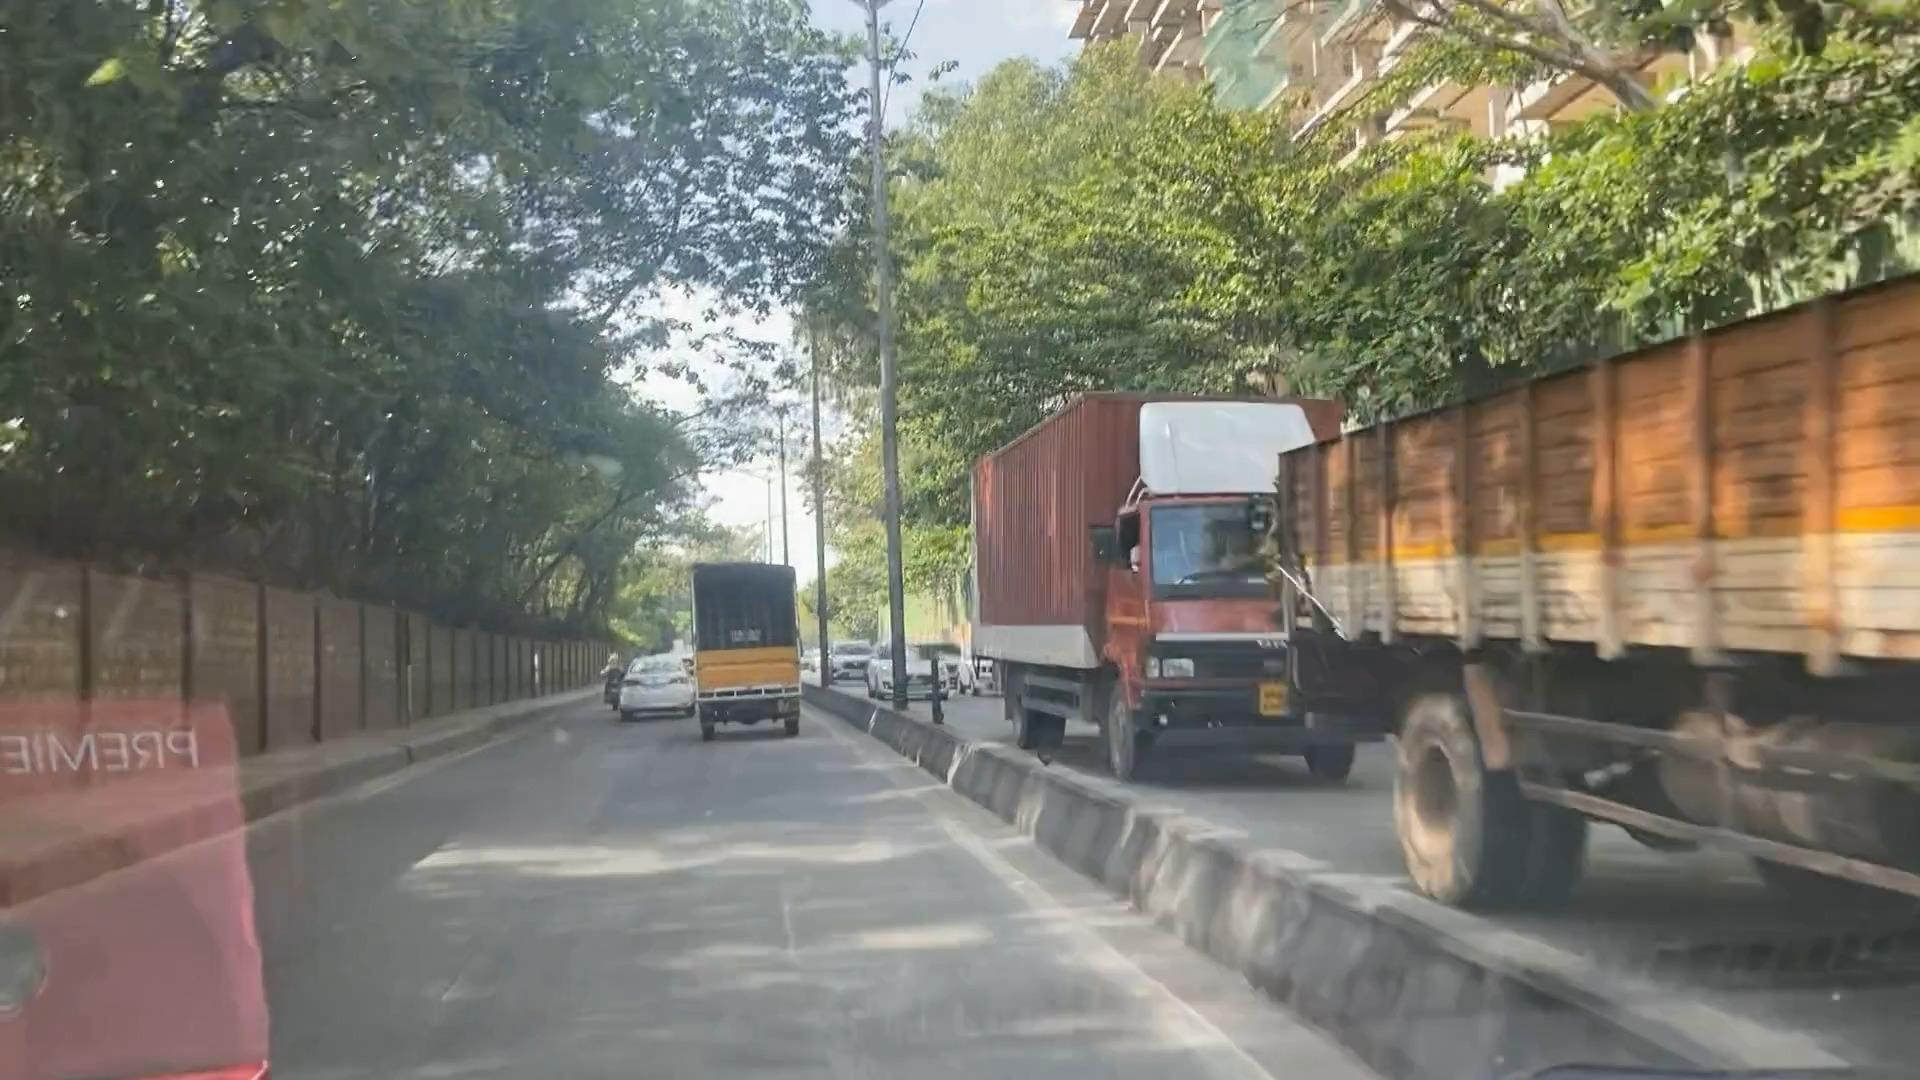HMV: (1295, 162, 1920, 922), (956, 347, 1365, 783), (687, 549, 812, 746)
